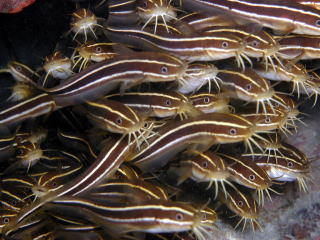gonzui: (109, 17, 254, 63), (46, 198, 201, 229)
